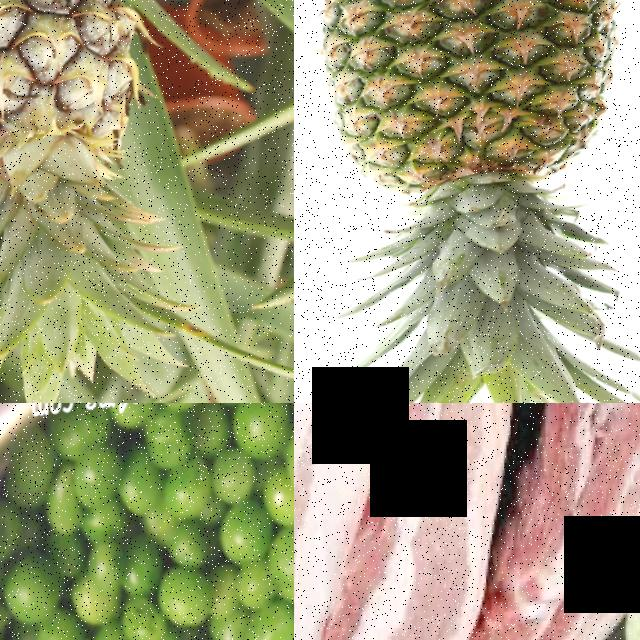peas: (0, 403, 294, 640)
pineapple: (300, 0, 640, 286), (0, 0, 168, 295)
pork belly: (327, 500, 513, 640), (475, 495, 616, 640), (294, 403, 378, 640), (370, 403, 539, 501)
